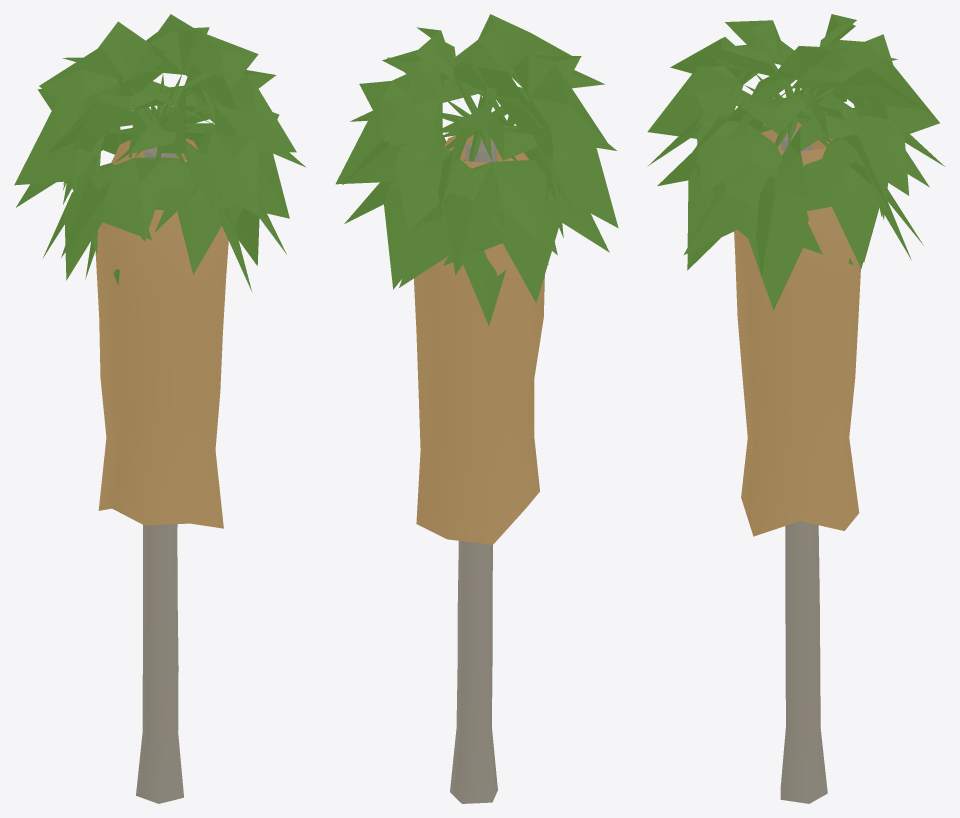
Rendered from Blender_FanPalm_1_Far.glb.
The picture shows the model from 3 angles, left to right: view 1: azimuth 30°, elevation 25°; view 2: azimuth 150°, elevation 25°; view 3: azimuth 270°, elevation 25°; orthographic projection.
Visible parts, largest first — view 1: Blender_FanPalm_1_Far; view 2: Blender_FanPalm_1_Far; view 3: Blender_FanPalm_1_Far.
Boxes of the visible parts, x1,y1,x2,y2 form: Blender_FanPalm_1_Far: (14, 14, 305, 803); Blender_FanPalm_1_Far: (335, 14, 618, 803); Blender_FanPalm_1_Far: (647, 14, 944, 803).
Bounding box in the file's own units: 6.47 × 18.91 × 6.69.
